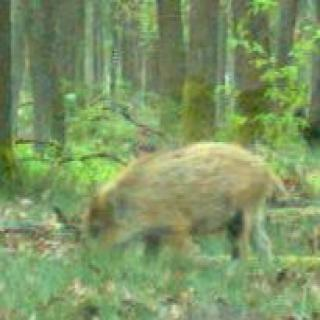Pig: (66, 92, 303, 290)
